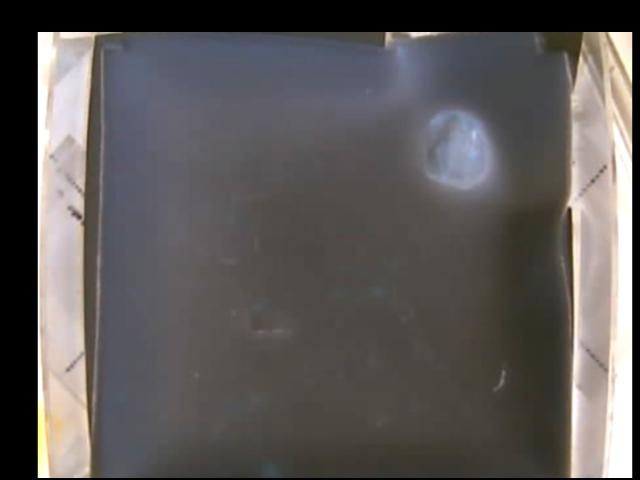Pebble: (422, 109, 491, 183)
